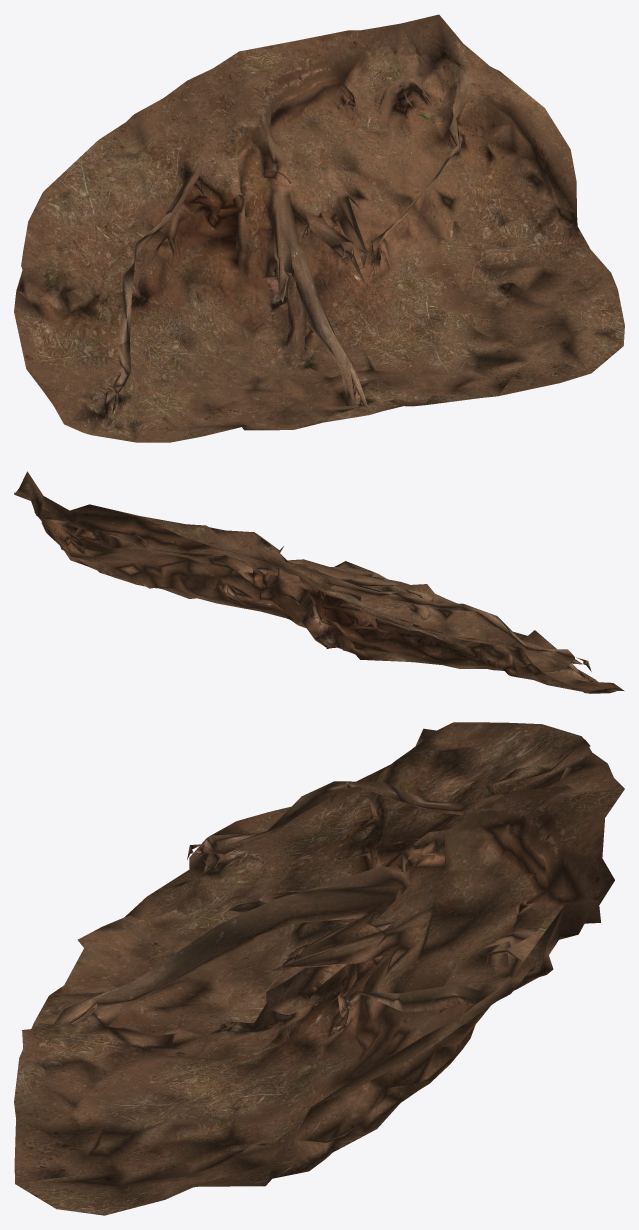
File: root_cluster_01.glb
3 views of the same model, one above another, from view 1: azimuth 30°, elevation 25°; view 2: azimuth 150°, elevation 25°; view 3: azimuth 270°, elevation 25° (orthographic). The views are drawn at different scales.
Parts seen in each view (by area): view 1: a; view 2: a; view 3: a.
Boxes of the visible parts, bbox=[...] form: a: bbox=[14, 14, 624, 442]; a: bbox=[14, 471, 624, 693]; a: bbox=[14, 722, 624, 1215].
Bounding box in the file's own units: 4.1 × 1.5 × 2.68.
Materials: 1 (1 with a texture image).
